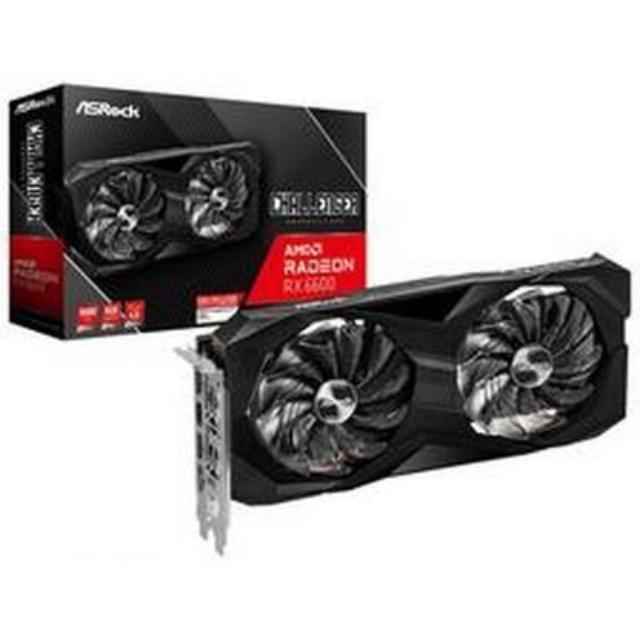GPU: (206, 258, 638, 510)
